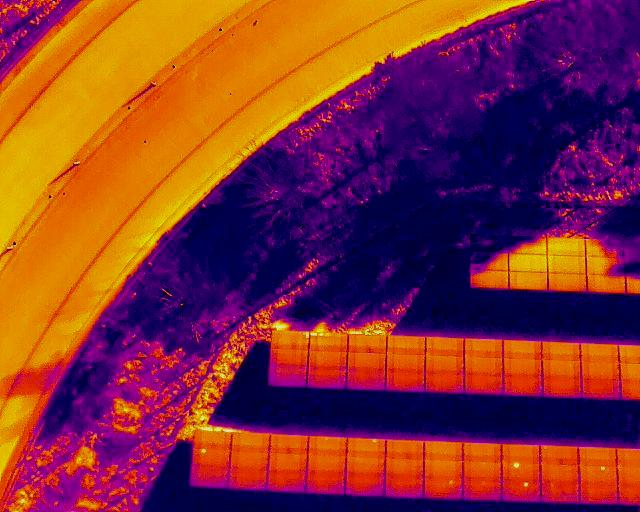Cell: (578, 464, 618, 486), (502, 462, 541, 482), (424, 478, 463, 498), (503, 480, 540, 501), (191, 450, 232, 468), (347, 438, 386, 456)
Cell-Multi: (309, 333, 346, 352), (271, 331, 310, 348)
No-Anomaly: (463, 478, 502, 500), (583, 380, 624, 400), (384, 458, 425, 478), (307, 453, 347, 473), (346, 476, 386, 496), (542, 361, 581, 381), (230, 453, 269, 473), (307, 370, 348, 389), (268, 471, 305, 492), (580, 344, 620, 363), (541, 463, 579, 483), (541, 446, 581, 465), (465, 339, 503, 359), (508, 270, 548, 289), (424, 441, 464, 460), (425, 355, 464, 374), (386, 355, 425, 374), (463, 442, 502, 461), (307, 473, 346, 492), (191, 468, 228, 488), (542, 483, 579, 503), (548, 274, 589, 292), (542, 342, 580, 361), (347, 456, 385, 475), (231, 434, 269, 453), (268, 435, 308, 453), (582, 363, 622, 381), (385, 479, 425, 497), (347, 335, 386, 353), (501, 444, 540, 462), (463, 461, 502, 479), (228, 473, 267, 491), (580, 485, 619, 503), (546, 239, 587, 256), (424, 375, 465, 392), (578, 447, 619, 464), (548, 256, 586, 274), (387, 337, 425, 355), (348, 354, 386, 372), (269, 368, 307, 386), (269, 348, 307, 366), (503, 360, 541, 378), (503, 341, 541, 359), (424, 461, 464, 478), (307, 436, 347, 453), (309, 352, 346, 370), (386, 375, 425, 392), (385, 441, 424, 458), (269, 454, 308, 471), (347, 372, 385, 389), (508, 255, 548, 271), (425, 339, 465, 355), (465, 359, 502, 376), (194, 432, 231, 449), (465, 376, 503, 392), (543, 382, 583, 397), (503, 379, 543, 394)
Shadowing: (470, 253, 509, 272), (588, 273, 627, 292), (508, 236, 547, 254), (586, 240, 627, 257), (587, 256, 625, 274), (470, 270, 508, 288), (469, 236, 508, 253)
